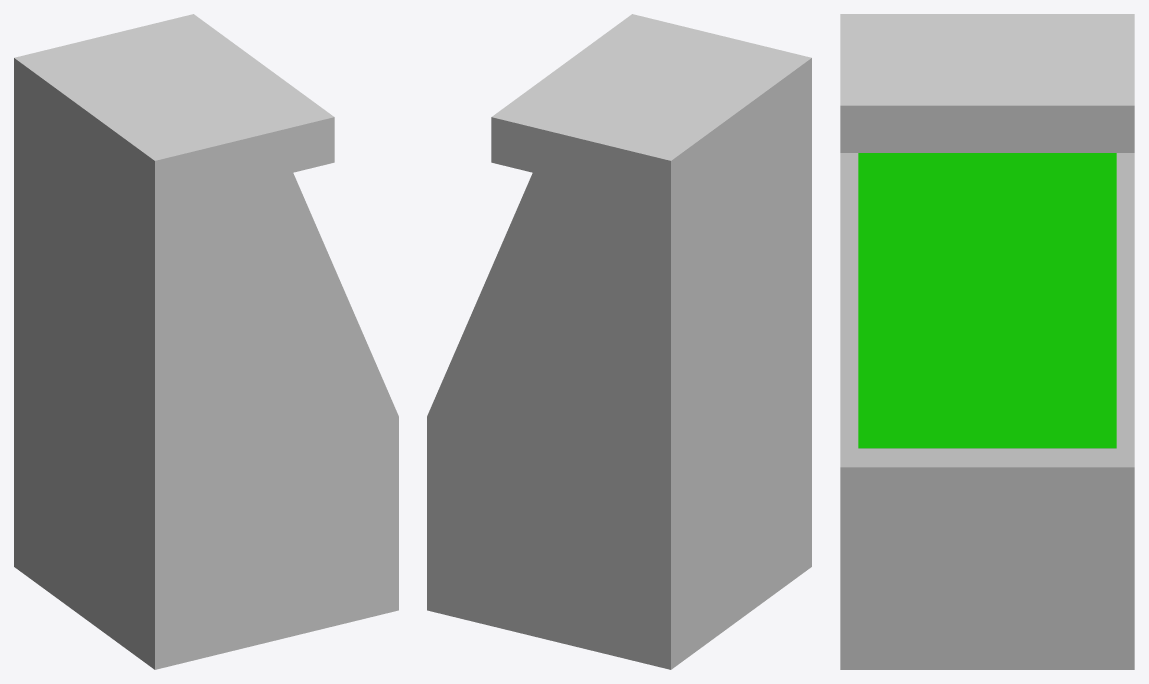
The model's file is atm.fbx.
3 views of the same model, side by side, from view 1: azimuth 30°, elevation 25°; view 2: azimuth 150°, elevation 25°; view 3: azimuth 270°, elevation 25° (orthographic). The views are drawn at different scales.
Visible parts, largest first — view 1: Cube; view 2: Cube; view 3: Cube.
Boxes of the visible parts, x1,y1,x2,y2 form: Cube: (14, 14, 398, 669); Cube: (427, 14, 811, 669); Cube: (840, 14, 1134, 669).
Bounding box in the file's own units: 287 × 571 × 287.
